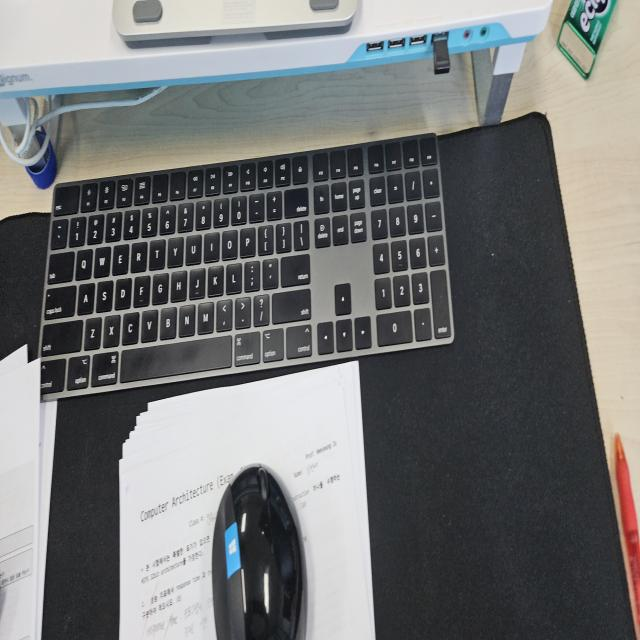Keyboard: (37, 130, 455, 400)
Mouse: (210, 460, 304, 637)
